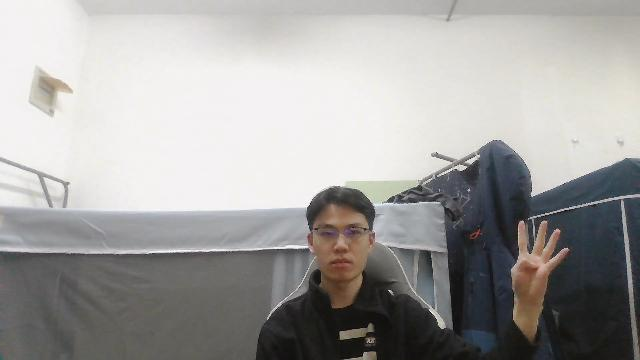four: (508, 218, 571, 316)
